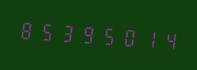eight: (17, 14, 36, 45)
five: (37, 15, 56, 47), (97, 19, 116, 51)
four: (157, 24, 176, 55)
nine: (77, 18, 96, 49)
one: (137, 22, 156, 54)
three: (57, 17, 76, 48)
zero: (117, 21, 136, 52)
